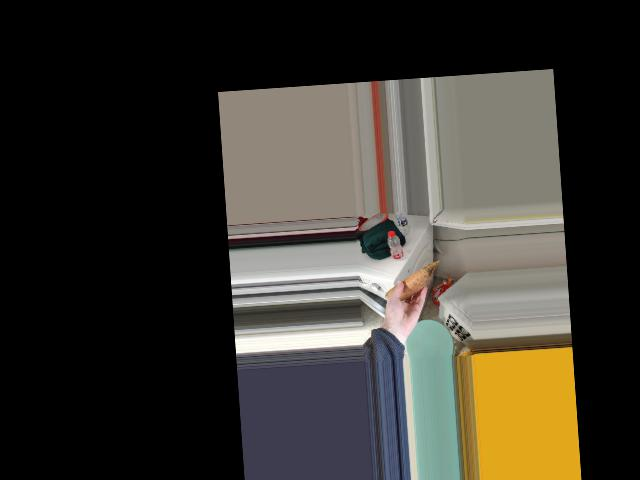sweet_potato: (389, 271, 427, 298)
